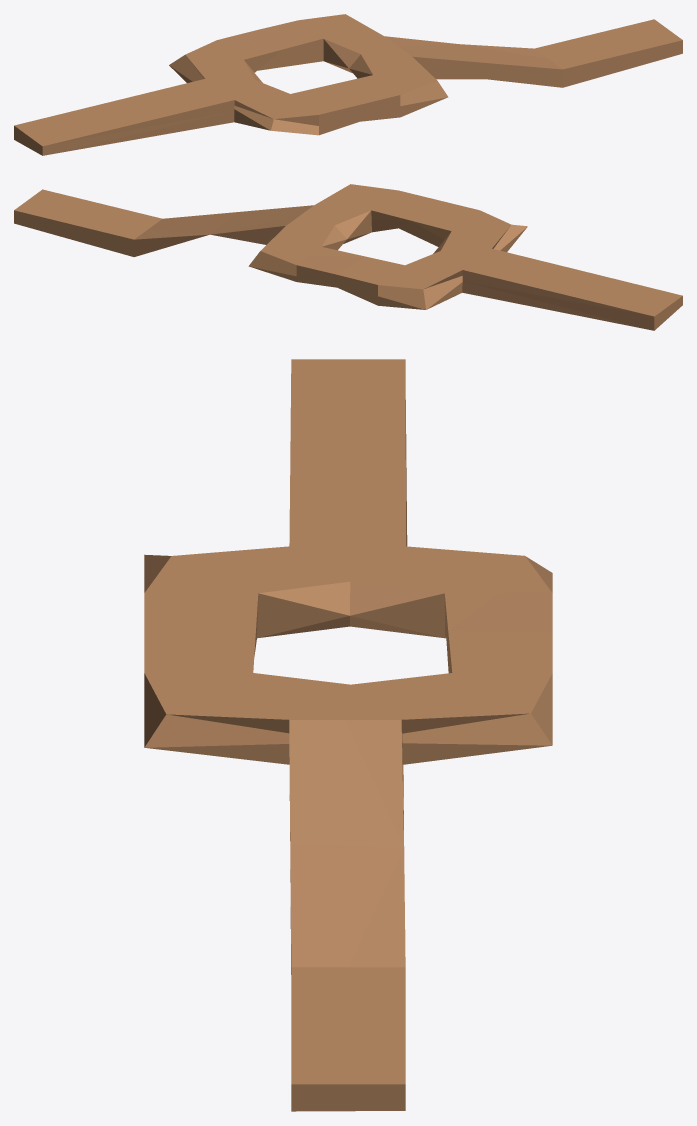
The model's file is map1.fbx.
3 views of the same model, one above another, from view 1: azimuth 30°, elevation 25°; view 2: azimuth 150°, elevation 25°; view 3: azimuth 270°, elevation 25° (orthographic). The views are drawn at different scales.
Parts seen in each view (by area): view 1: Cube.006; view 2: Cube.006; view 3: Cube.006.
Part boxes in pixels (x1,y1,x2,y2): Cube.006: [14, 14, 682, 155]; Cube.006: [14, 184, 682, 330]; Cube.006: [144, 359, 552, 1111].
Size of the model in its own units: 4865 by 528 by 1343.
